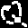Q: (0, 0, 28, 28)
